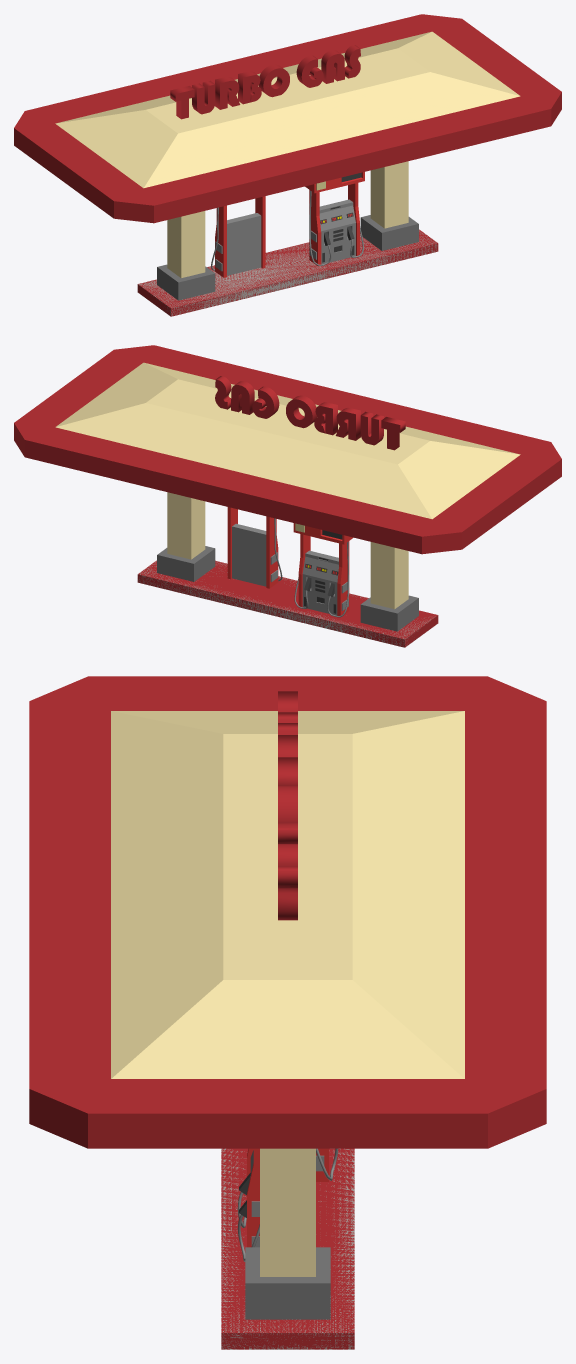
File: GasStation.fbx
3 views of the same model, one above another, from view 1: azimuth 30°, elevation 25°; view 2: azimuth 150°, elevation 25°; view 3: azimuth 270°, elevation 25° (orthographic). The views are drawn at different scales.
Parts seen in each view (by area): view 1: Text; view 2: Text; view 3: Text.
Part boxes in pixels (bbox=[...]): Text: bbox=[14, 14, 561, 316]; Text: bbox=[14, 345, 561, 647]; Text: bbox=[29, 676, 546, 1349].
Bounding box in the file's own units: 2000 × 889 × 1000.
